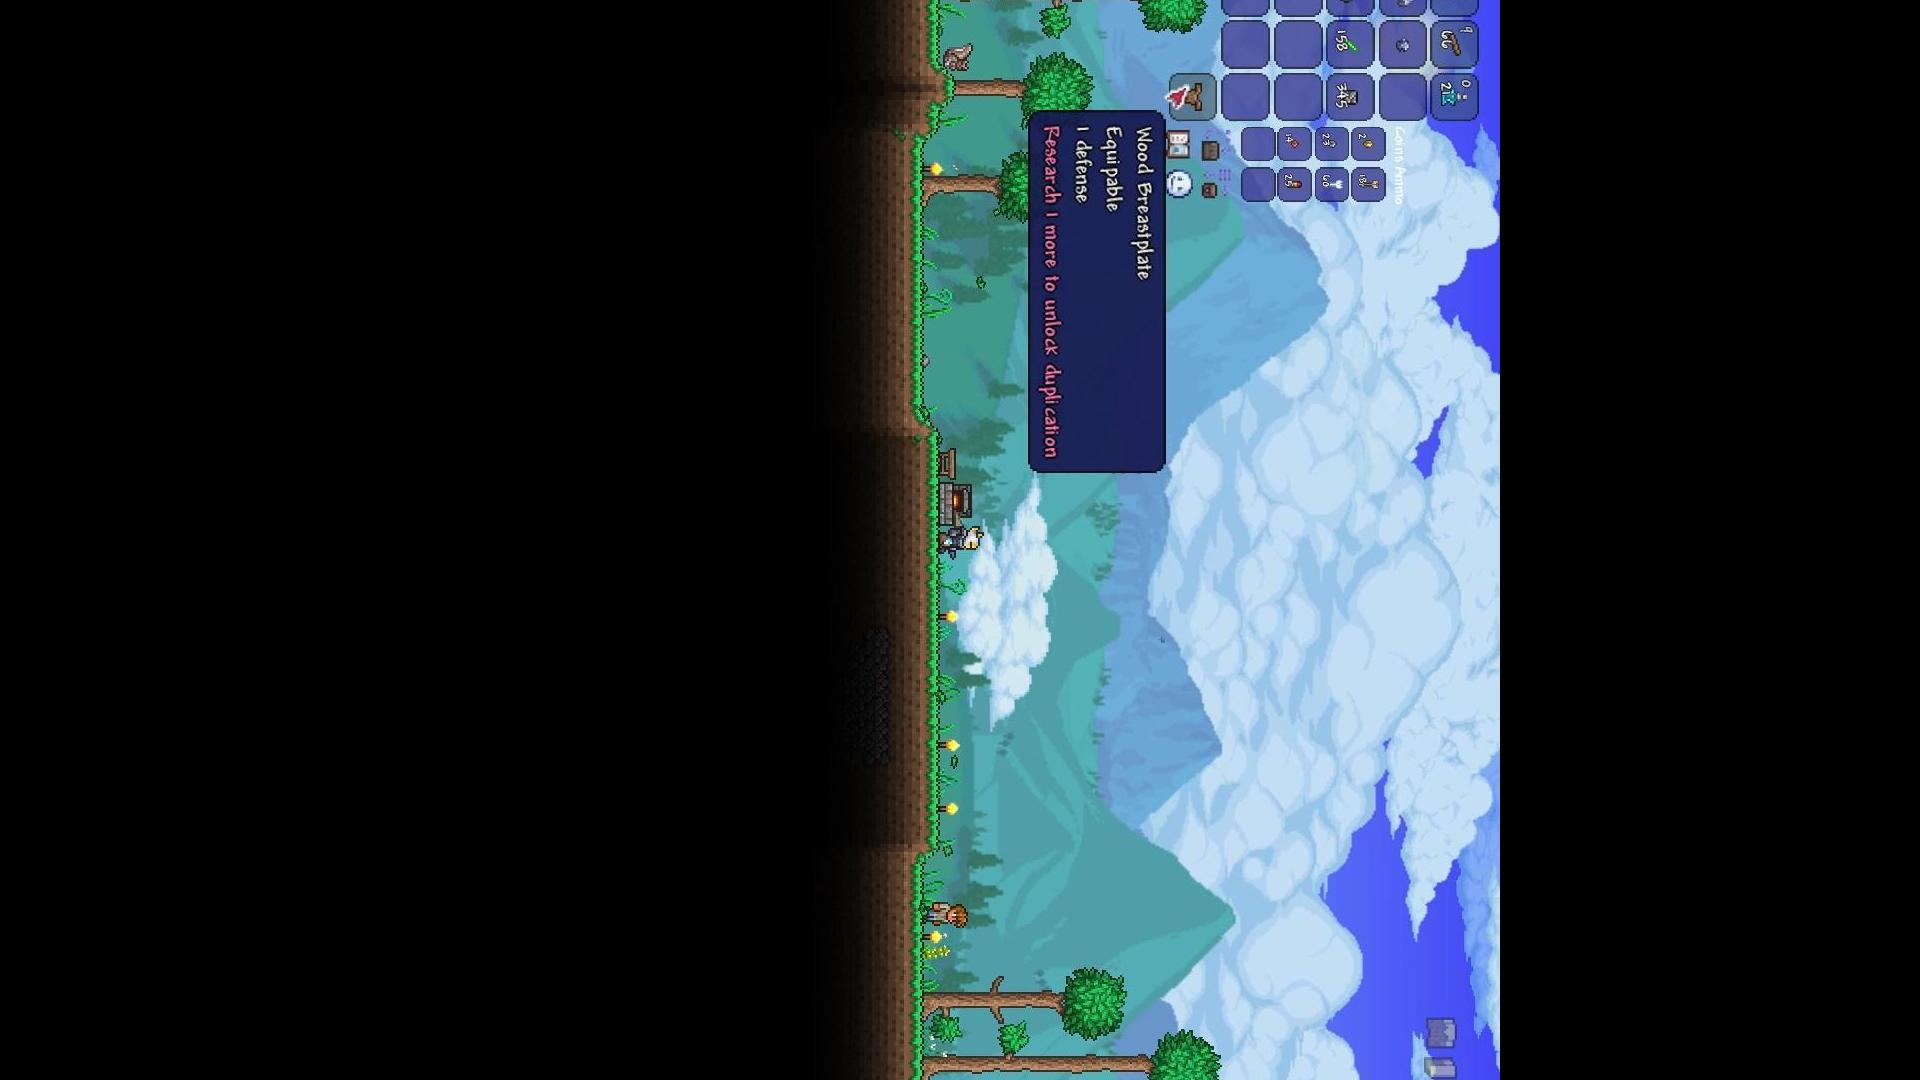arrow: (1323, 178, 1345, 191), (1357, 179, 1378, 190)
breastplate: (1180, 82, 1205, 115)
furnace: (942, 481, 975, 525)
glowstick: (1341, 28, 1360, 57)
recallP: (1440, 86, 1469, 108)
workbench: (938, 447, 960, 481)
